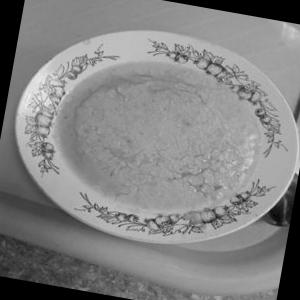porridge: (28, 28, 280, 242)
